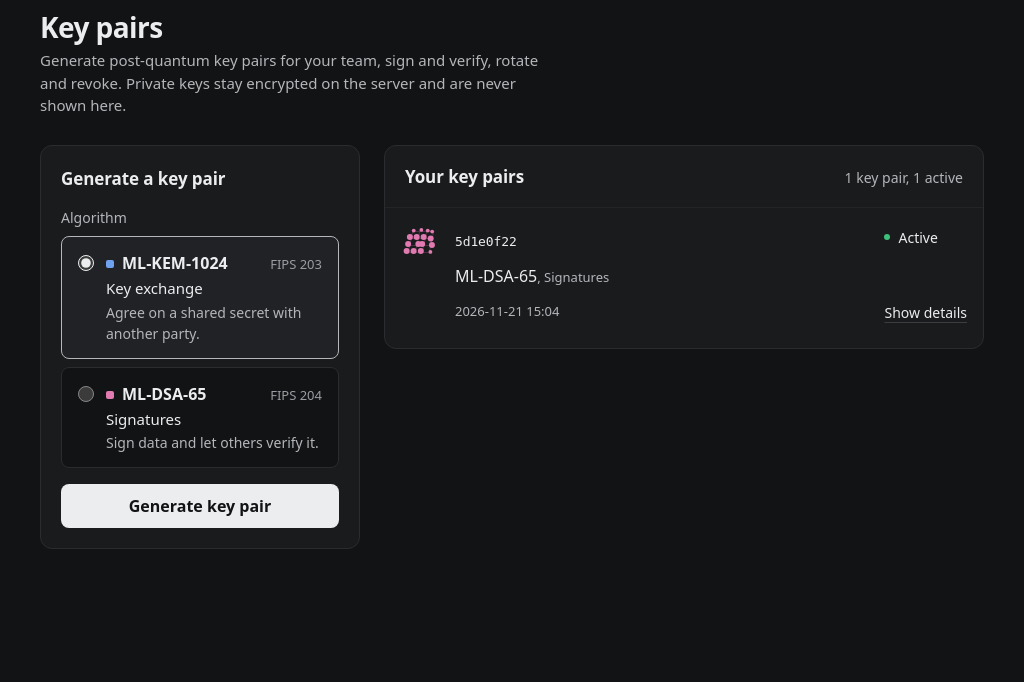
Scenario: sign and verify › keeps nothing typed in browser storage or the address
Expected: the table is shown, [385,207,983,348]
Click the button with aria-label "Show details of 5d1e0f22" at [926, 312], box [884,290,967,334]
(page scrolled)
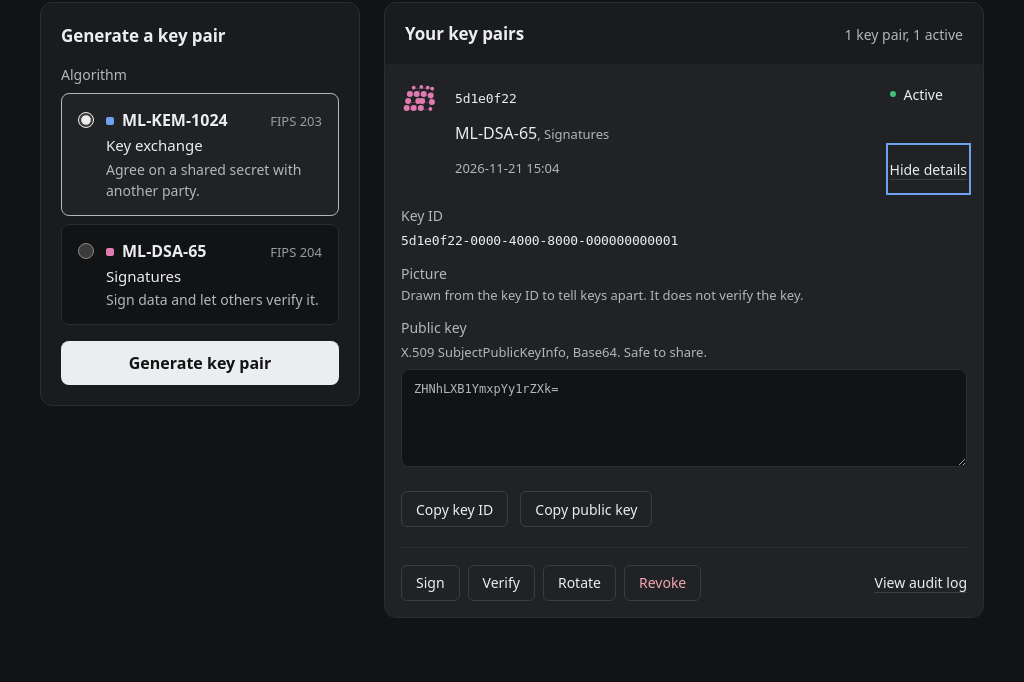
Click the button "Sign" at [430, 583], box [401,565,460,601]
(page scrolled)
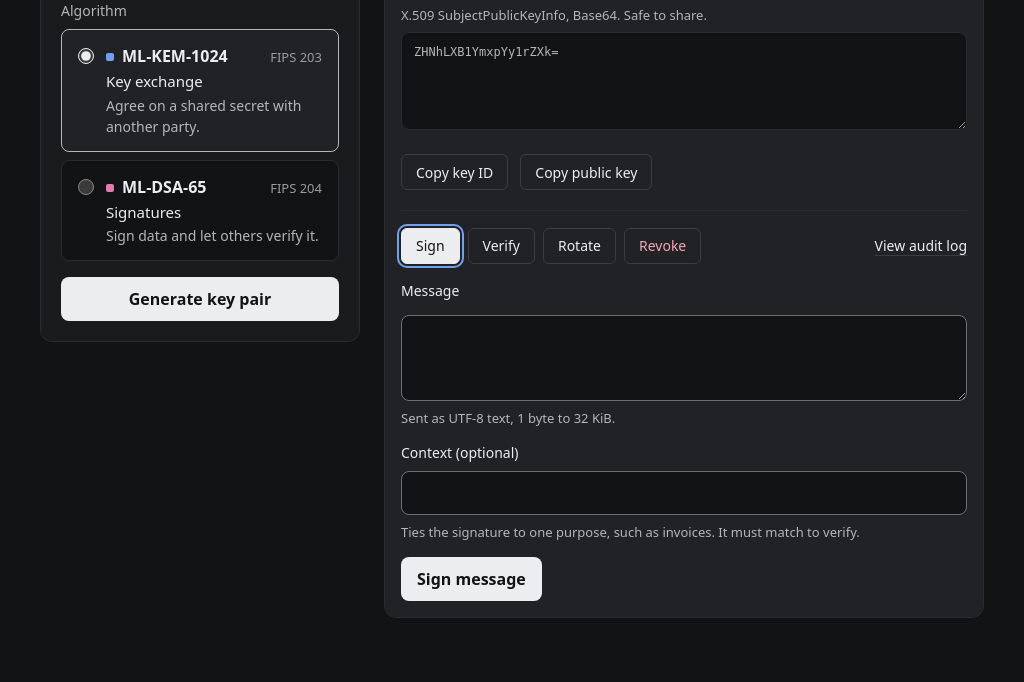
Type "secret plan" into the text box labelled "Message" at [684, 358], box [401,315,967,401]
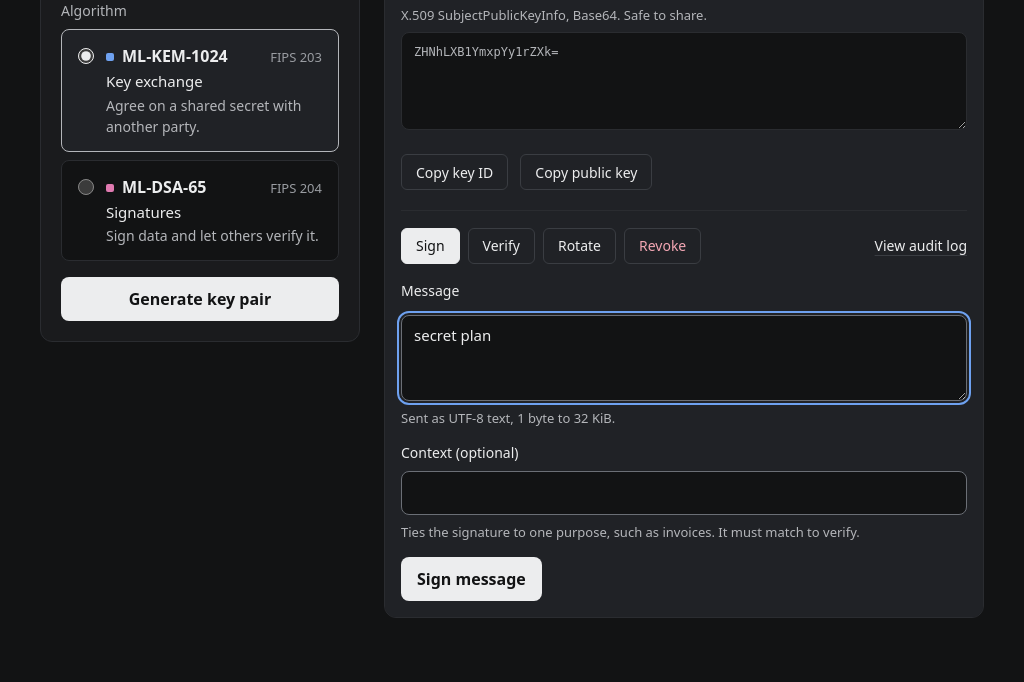
Click the button "Sign message" at [471, 579], box [401,557,542,601]
(page scrolled)
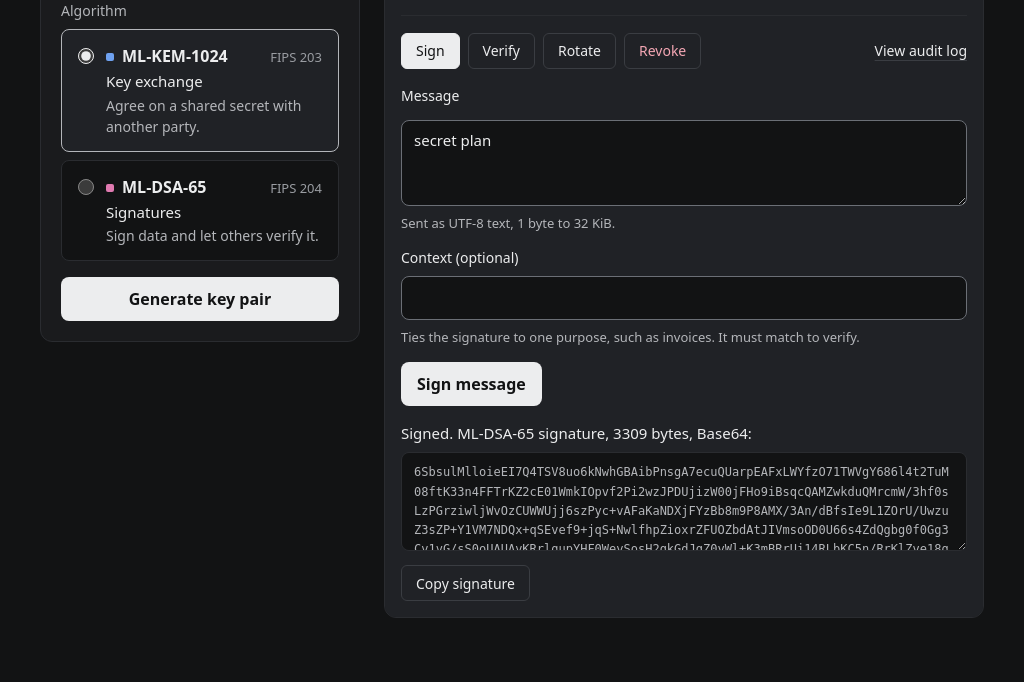
Expected: the text box named "Signature" is shown, [401,452,967,551]
